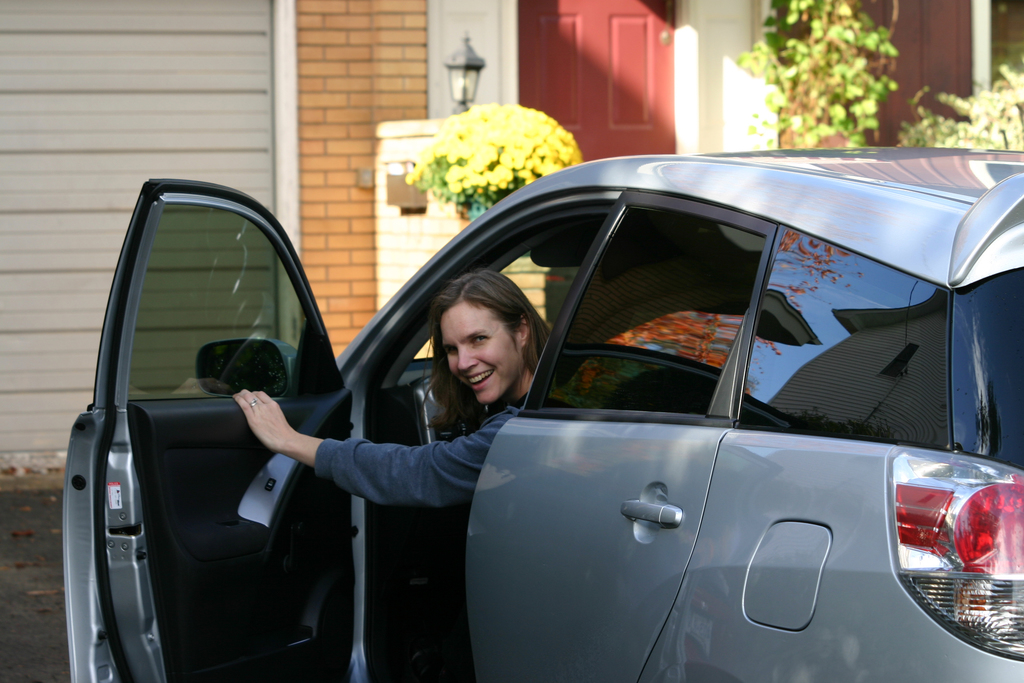car: (50, 126, 1024, 683)
